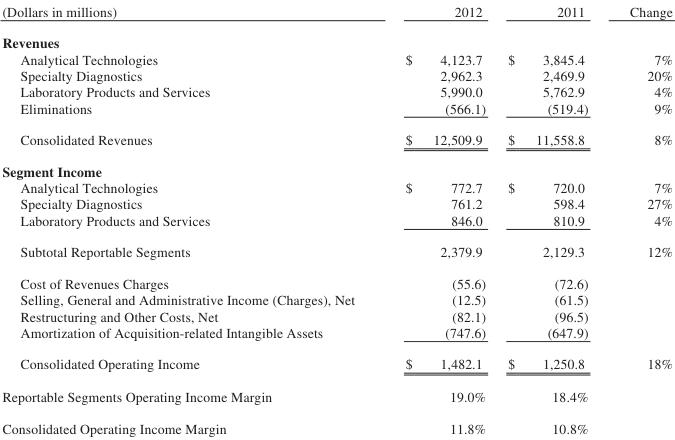table: (1, 1, 671, 437)
table column: (1, 1, 379, 437), (379, 1, 496, 437), (496, 1, 608, 437), (608, 1, 671, 437)
table column header: (1, 1, 671, 26)
table projected row header: (1, 154, 671, 179), (1, 26, 671, 50)
table row: (1, 347, 671, 379), (1, 379, 671, 411), (1, 123, 671, 154), (1, 235, 671, 266), (1, 411, 671, 437), (1, 1, 671, 26), (1, 154, 671, 179), (1, 26, 671, 50), (1, 99, 671, 123), (1, 211, 671, 235), (1, 266, 671, 290), (1, 323, 671, 347), (1, 82, 671, 99), (1, 194, 671, 211), (1, 290, 671, 307), (1, 50, 671, 66), (1, 66, 671, 82), (1, 307, 671, 323), (1, 179, 671, 194)
